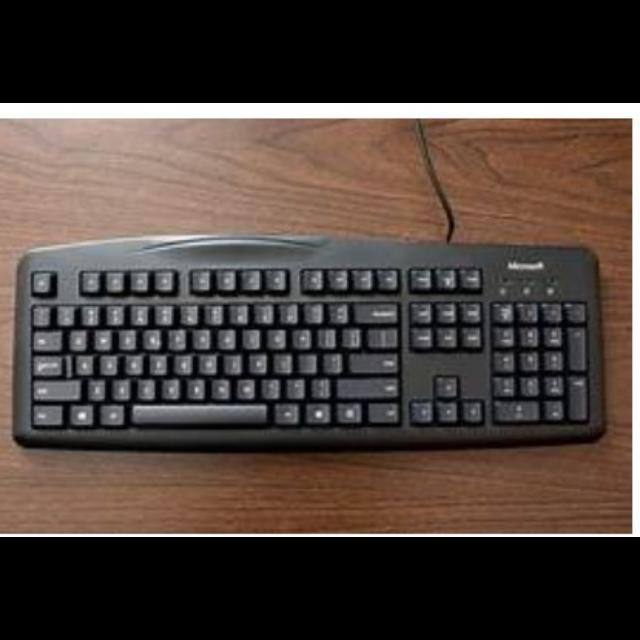Computer-Keyboard: (11, 233, 608, 456)
